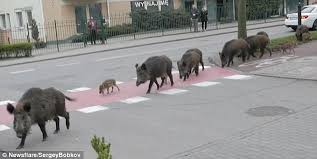boar: (6, 86, 74, 149), (134, 54, 175, 95), (217, 38, 250, 70), (175, 47, 206, 80)
